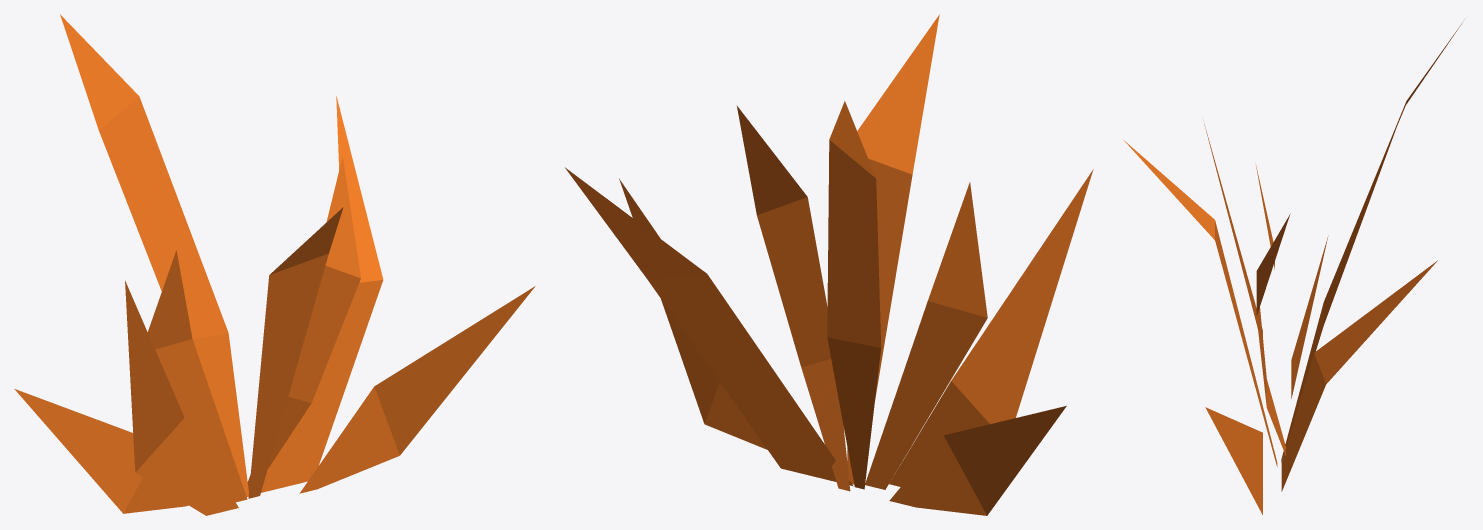
File: grass-tall_orange.glb
3 renders of one model, left to right at view 1: azimuth 30°, elevation 25°; view 2: azimuth 150°, elevation 25°; view 3: azimuth 270°, elevation 25°, orthographic. The views are drawn at different scales.
Visible parts, largest first — view 1: grass-tall_orange; view 2: grass-tall_orange; view 3: grass-tall_orange.
Boxes of the visible parts, x1=… form: grass-tall_orange: x1=14, y1=14, x2=535, y2=515; grass-tall_orange: x1=565, y1=14, x2=1093, y2=515; grass-tall_orange: x1=1124, y1=19, x2=1464, y2=514.
Bounding box in the file's own units: 1.25 × 1.13 × 0.8707.
Materials: 1 (1 with a texture image).
